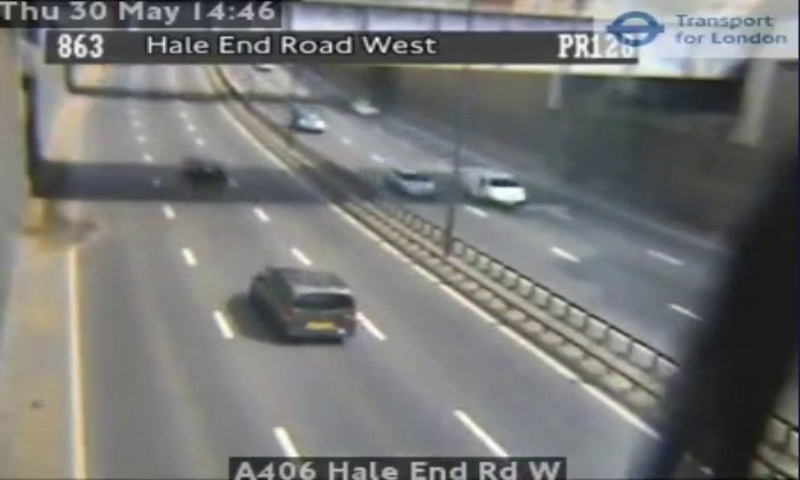van: (251, 267, 355, 339)
